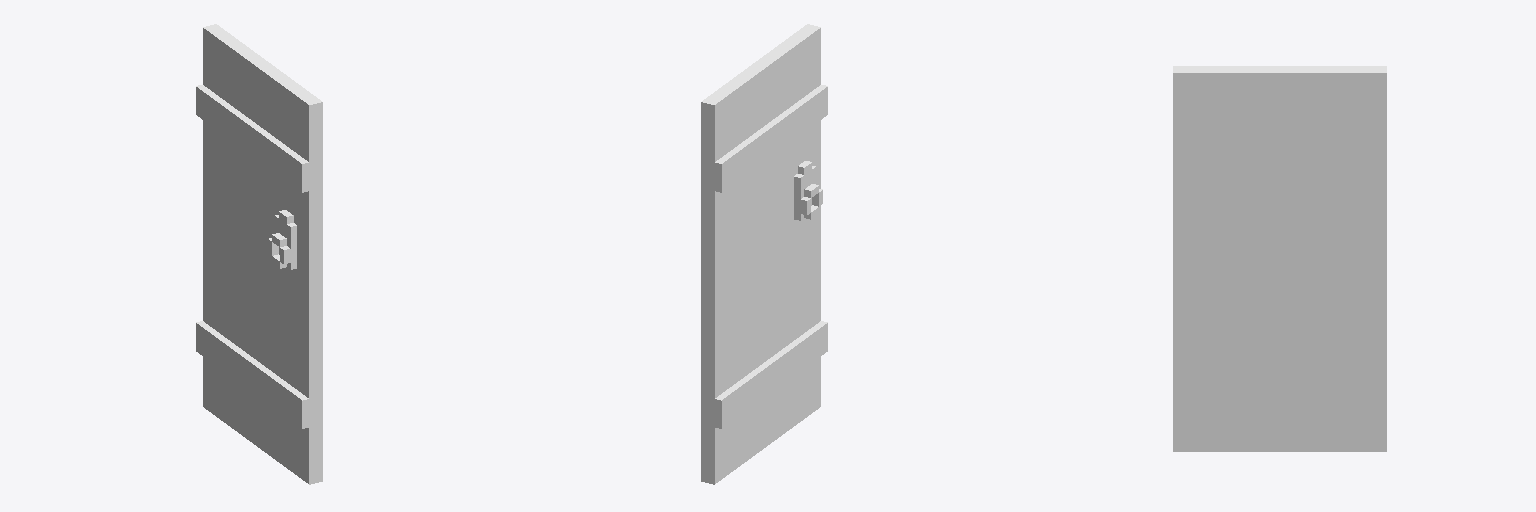
The model's file is door_simple_brown.obj.
3 views of the same model, side by side, from view 1: azimuth 30°, elevation 25°; view 2: azimuth 150°, elevation 25°; view 3: azimuth 270°, elevation 25° (orthographic).
Visible parts, largest first — view 1: object 1; view 2: object 1; view 3: object 1.
Boxes of the visible parts, <box> form: object 1: <box>196,24,322,484</box>; object 1: <box>701,24,827,484</box>; object 1: <box>1173,66,1386,451</box>.
Size of the model in its own units: 0.4 by 5.3 by 2.7.